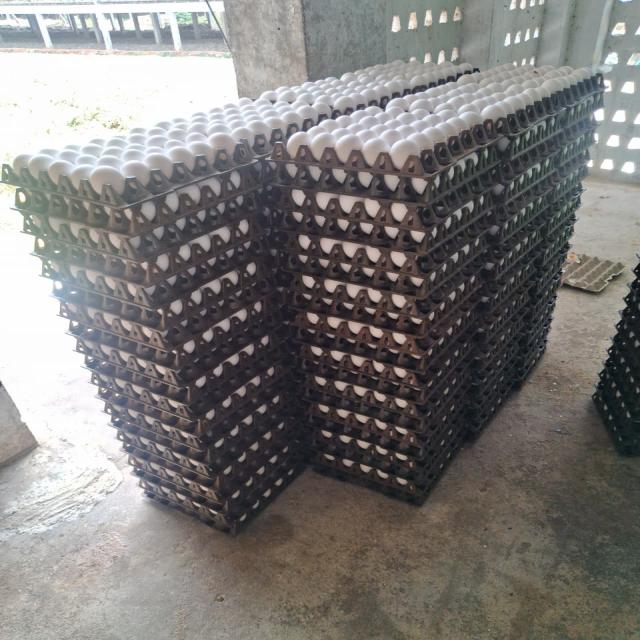egg_tray: (2, 98, 279, 226), (34, 215, 269, 330), (34, 216, 270, 329), (25, 198, 265, 306), (34, 220, 269, 330), (35, 218, 265, 330), (281, 194, 489, 316), (35, 220, 269, 328), (117, 390, 299, 528), (33, 218, 269, 320), (281, 196, 489, 301), (69, 292, 288, 385), (2, 131, 269, 207), (3, 160, 271, 234), (88, 340, 287, 438), (276, 188, 491, 276), (25, 208, 267, 286), (285, 240, 483, 335), (70, 298, 283, 385), (69, 300, 282, 386), (274, 99, 531, 170), (85, 330, 290, 418), (35, 209, 267, 286), (291, 276, 481, 370), (61, 286, 281, 367), (273, 107, 487, 189), (19, 191, 261, 262), (52, 261, 274, 338), (61, 292, 279, 370), (119, 416, 299, 510), (123, 430, 301, 525), (85, 333, 290, 415), (274, 96, 495, 172), (14, 170, 260, 238), (272, 107, 495, 182), (304, 276, 481, 370), (284, 238, 484, 321), (309, 390, 465, 496), (305, 342, 472, 441), (107, 362, 297, 448), (76, 309, 287, 386), (271, 132, 497, 203), (294, 313, 473, 402), (292, 302, 474, 388), (305, 344, 467, 439), (118, 416, 295, 502), (291, 275, 481, 354), (309, 389, 466, 484), (387, 65, 601, 134), (85, 332, 287, 405), (473, 248, 555, 426), (274, 188, 491, 255), (309, 390, 465, 482), (89, 344, 287, 416), (387, 64, 601, 130), (279, 150, 499, 214), (98, 364, 291, 436), (130, 440, 301, 520), (284, 236, 483, 304), (107, 384, 297, 454), (15, 184, 258, 238), (294, 316, 471, 390), (312, 419, 465, 504), (139, 455, 304, 533), (256, 60, 473, 118), (132, 456, 302, 530), (118, 424, 295, 494), (277, 152, 498, 208), (91, 358, 290, 420), (387, 65, 565, 134), (299, 340, 473, 410), (305, 358, 465, 434), (305, 370, 470, 443), (387, 68, 560, 137), (119, 430, 299, 496), (311, 427, 464, 504), (478, 222, 572, 346), (109, 398, 296, 460), (303, 363, 468, 432), (307, 390, 465, 462), (312, 432, 464, 505), (307, 388, 467, 457), (129, 454, 299, 518), (391, 92, 557, 156), (139, 469, 299, 534), (306, 394, 465, 459), (305, 368, 450, 432), (311, 422, 459, 484), (479, 217, 572, 312), (191, 97, 330, 160), (205, 98, 339, 161), (191, 98, 331, 158), (203, 98, 332, 159), (492, 132, 593, 205), (492, 132, 592, 200), (499, 93, 601, 158), (497, 76, 603, 137), (299, 348, 427, 398), (497, 104, 597, 167), (311, 428, 427, 482), (298, 60, 473, 94), (466, 310, 525, 404), (492, 150, 587, 207), (479, 270, 554, 340), (497, 116, 594, 170), (592, 348, 639, 454), (474, 281, 531, 368), (471, 306, 526, 396), (479, 236, 540, 313), (466, 343, 519, 431), (254, 98, 334, 156), (464, 358, 518, 434), (469, 309, 524, 383), (532, 174, 583, 252), (496, 116, 563, 175), (527, 214, 574, 298), (476, 262, 537, 326), (481, 230, 541, 292), (497, 118, 563, 174), (364, 60, 477, 92), (531, 214, 575, 296), (481, 94, 561, 137), (485, 195, 552, 245), (536, 198, 579, 274), (381, 60, 477, 94), (341, 60, 473, 84), (492, 163, 559, 208), (540, 182, 583, 250), (341, 59, 472, 81), (512, 317, 552, 388), (329, 86, 410, 120), (513, 318, 552, 388), (517, 286, 556, 356), (492, 96, 560, 135), (546, 182, 583, 242), (553, 68, 605, 109), (607, 314, 639, 379), (553, 130, 593, 177), (547, 162, 586, 210), (559, 86, 603, 128), (519, 302, 554, 354), (530, 248, 566, 298), (555, 130, 594, 176), (513, 336, 545, 390), (547, 162, 587, 202), (523, 286, 557, 330), (557, 113, 599, 148), (567, 72, 605, 108), (620, 278, 639, 328), (620, 279, 639, 328), (119, 406, 147, 426), (139, 412, 157, 430), (442, 371, 461, 388), (405, 370, 427, 382), (359, 458, 383, 468), (366, 144, 377, 165), (110, 216, 126, 230), (433, 146, 445, 163), (141, 336, 157, 348), (348, 322, 365, 332), (453, 83, 471, 92), (632, 263, 639, 286), (555, 251, 565, 267), (632, 263, 639, 284), (110, 238, 119, 254), (341, 72, 359, 80), (261, 429, 277, 438), (549, 78, 561, 90), (459, 348, 469, 362), (505, 94, 516, 106), (507, 86, 525, 93), (291, 120, 301, 132), (293, 296, 303, 308), (527, 94, 535, 108), (565, 208, 574, 220), (201, 185, 213, 194), (392, 110, 402, 120), (287, 108, 297, 118), (301, 346, 313, 354), (275, 120, 287, 128), (320, 304, 332, 312), (148, 472, 164, 478), (113, 321, 126, 328), (341, 204, 350, 214), (265, 164, 273, 175), (572, 78, 579, 90), (181, 356, 187, 370), (326, 154, 335, 163), (205, 328, 213, 338), (103, 302, 113, 310), (531, 112, 539, 122), (415, 181, 423, 190), (287, 164, 293, 176), (551, 243, 561, 250), (451, 94, 462, 100), (530, 78, 543, 83), (310, 116, 318, 124), (221, 232, 227, 242), (440, 126, 450, 132), (555, 75, 567, 80), (357, 420, 363, 430), (449, 148, 459, 154), (259, 122, 266, 130), (396, 334, 403, 342), (394, 367, 401, 375), (187, 246, 192, 257), (487, 85, 498, 90), (537, 243, 543, 252), (111, 334, 120, 340), (287, 166, 293, 175), (129, 358, 137, 364), (511, 262, 517, 270), (557, 68, 569, 72), (347, 372, 353, 380), (525, 88, 537, 92), (489, 84, 498, 89), (113, 244, 118, 253), (396, 298, 403, 304), (68, 308, 75, 314), (264, 104, 271, 110), (281, 421, 287, 428), (539, 124, 545, 131), (223, 416, 230, 422), (183, 426, 190, 432), (311, 170, 317, 177), (486, 84, 492, 91), (359, 420, 364, 428), (571, 110, 577, 116), (457, 136, 463, 142), (130, 456, 137, 461), (541, 258, 546, 265), (23, 192, 28, 199), (494, 83, 501, 88), (207, 178, 218, 181), (399, 114, 410, 117), (197, 240, 201, 248), (317, 136, 321, 144), (371, 362, 375, 370), (399, 114, 407, 118), (553, 72, 561, 76), (453, 88, 463, 91), (223, 230, 229, 235), (525, 267, 531, 272), (209, 416, 214, 422), (201, 336, 206, 342), (100, 392, 105, 398), (167, 416, 174, 420), (116, 399, 121, 404), (529, 254, 535, 258), (132, 242, 136, 248), (95, 180, 99, 186), (527, 132, 531, 138), (155, 458, 159, 464), (485, 129, 493, 132), (234, 154, 237, 161), (551, 219, 555, 224), (398, 302, 403, 306), (547, 252, 551, 257), (562, 246, 566, 251), (69, 308, 73, 313), (112, 363, 117, 367), (327, 171, 331, 176), (367, 250, 371, 255), (326, 241, 331, 245), (331, 416, 336, 420), (369, 378, 374, 382), (294, 320, 299, 324), (380, 124, 385, 128), (290, 167, 294, 172), (382, 92, 387, 96), (338, 405, 344, 408), (227, 335, 233, 338), (153, 409, 156, 415), (541, 306, 544, 312), (320, 94, 324, 98), (562, 238, 566, 242), (269, 165, 273, 169), (567, 82, 571, 86), (255, 440, 259, 444), (317, 210, 321, 214), (207, 402, 211, 406), (345, 116, 353, 118), (337, 174, 341, 178), (415, 100, 419, 104), (436, 138, 441, 141), (220, 122, 223, 127), (463, 111, 468, 114), (358, 440, 363, 443), (244, 247, 249, 250), (136, 334, 141, 337), (410, 180, 415, 183), (367, 328, 374, 330), (411, 96, 418, 98), (460, 390, 463, 394), (474, 156, 477, 160), (314, 102, 317, 106), (294, 284, 297, 288), (523, 291, 526, 295), (125, 422, 128, 426), (241, 310, 245, 313), (85, 165, 91, 167), (323, 430, 329, 432), (505, 140, 508, 144), (546, 212, 552, 214), (369, 203, 373, 206), (347, 246, 350, 250), (309, 244, 312, 248), (407, 114, 413, 116), (341, 196, 344, 200), (422, 157, 426, 160), (72, 234, 77, 236), (99, 167, 109, 168), (380, 448, 385, 450), (403, 341, 405, 346), (388, 180, 393, 182), (551, 221, 554, 224), (172, 174, 175, 177), (265, 493, 268, 496), (404, 92, 407, 95), (359, 358, 362, 361), (314, 304, 317, 307), (299, 288, 303, 290), (259, 286, 263, 288), (532, 254, 534, 258), (193, 186, 197, 188), (637, 254, 639, 258), (549, 71, 557, 72), (189, 442, 193, 444), (112, 412, 113, 420), (294, 302, 296, 306), (111, 354, 113, 358), (355, 124, 359, 126), (555, 122, 557, 126), (395, 206, 399, 208), (325, 416, 329, 418), (343, 358, 345, 362), (125, 404, 129, 406), (415, 82, 419, 84), (299, 322, 301, 326), (295, 316, 297, 320), (352, 140, 356, 142), (247, 492, 251, 494), (181, 502, 183, 506), (512, 96, 515, 98), (543, 259, 545, 262), (540, 254, 543, 256), (134, 378, 136, 381), (207, 124, 210, 126), (74, 226, 77, 228), (88, 286, 91, 288), (543, 149, 545, 152), (381, 387, 383, 390), (433, 447, 435, 450), (509, 348, 512, 350), (509, 350, 512, 352), (371, 384, 374, 386), (578, 70, 581, 72), (424, 142, 427, 144), (411, 169, 417, 170), (413, 153, 419, 154), (357, 146, 360, 148), (196, 134, 201, 135), (297, 207, 302, 208), (154, 429, 159, 430), (488, 93, 490, 95), (543, 212, 545, 214), (199, 384, 201, 386), (528, 270, 530, 272), (107, 212, 109, 214), (221, 128, 223, 130), (154, 412, 156, 414), (436, 124, 438, 126), (450, 202, 452, 204), (365, 70, 367, 72), (265, 273, 267, 275), (211, 262, 213, 264), (131, 364, 133, 366), (553, 120, 555, 122), (595, 106, 597, 108), (379, 260, 381, 262), (312, 411, 314, 413), (361, 367, 365, 368), (363, 380, 365, 382), (565, 92, 566, 96), (439, 146, 441, 148), (401, 98, 403, 100), (443, 88, 445, 90), (505, 310, 507, 312), (193, 455, 197, 456), (302, 129, 305, 130), (326, 436, 329, 437), (287, 129, 288, 132), (238, 173, 239, 176), (354, 318, 357, 319), (361, 105, 364, 106), (398, 182, 399, 185), (516, 168, 517, 170), (307, 416, 308, 418), (431, 393, 432, 395), (336, 288, 337, 290), (281, 174, 283, 175), (538, 88, 539, 90), (398, 298, 399, 300), (571, 230, 572, 232), (276, 459, 277, 461), (81, 256, 82, 258), (315, 110, 317, 111), (175, 335, 177, 336), (169, 484, 170, 486), (277, 407, 279, 408), (191, 287, 193, 288), (72, 274, 73, 276), (369, 72, 370, 74), (141, 329, 143, 330), (543, 218, 545, 219), (145, 408, 146, 410), (334, 369, 335, 371), (165, 416, 167, 417), (165, 418, 167, 419), (583, 74, 585, 75), (394, 144, 395, 146), (258, 283, 259, 284), (258, 468, 259, 469), (333, 416, 334, 417), (234, 445, 235, 446), (469, 196, 470, 197), (409, 145, 410, 146), (476, 253, 477, 254), (456, 145, 457, 146), (551, 194, 552, 194), (292, 103, 294, 103), (296, 281, 298, 281), (259, 347, 261, 347), (259, 408, 260, 408), (164, 250, 165, 250), (46, 274, 48, 274), (554, 270, 555, 270), (338, 114, 339, 114), (241, 185, 241, 185), (245, 296, 245, 296), (213, 239, 214, 239), (553, 223, 554, 223), (167, 465, 168, 465), (552, 81, 555, 81), (523, 331, 523, 332), (184, 328, 187, 328), (277, 297, 278, 297), (225, 418, 228, 418), (132, 425, 134, 425), (114, 425, 115, 425), (201, 348, 201, 351), (101, 344, 101, 346), (199, 341, 199, 342), (205, 160, 205, 162), (451, 132, 452, 132), (536, 72, 537, 72), (382, 476, 383, 476), (356, 314, 357, 314), (351, 81, 352, 81), (103, 323, 103, 323), (107, 323, 108, 323), (126, 447, 130, 447), (32, 215, 33, 215), (499, 141, 499, 142), (309, 132, 310, 132), (156, 350, 157, 350), (185, 343, 186, 343), (98, 330, 99, 330), (476, 158, 477, 158), (316, 309, 318, 309), (360, 246, 361, 246), (405, 370, 406, 370), (378, 363, 379, 363), (436, 367, 438, 367), (125, 402, 125, 404), (221, 449, 221, 450), (416, 445, 417, 445), (387, 470, 389, 470), (407, 125, 408, 125), (332, 121, 334, 121), (169, 481, 170, 481), (165, 478, 167, 478), (112, 425, 113, 425), (325, 194, 330, 194), (319, 194, 319, 194), (329, 458, 330, 458), (299, 159, 299, 159), (480, 105, 481, 105), (545, 90, 546, 90), (569, 85, 569, 85), (527, 72, 527, 72), (510, 72, 515, 72), (556, 180, 557, 180), (272, 432, 273, 432), (479, 332, 479, 334)
